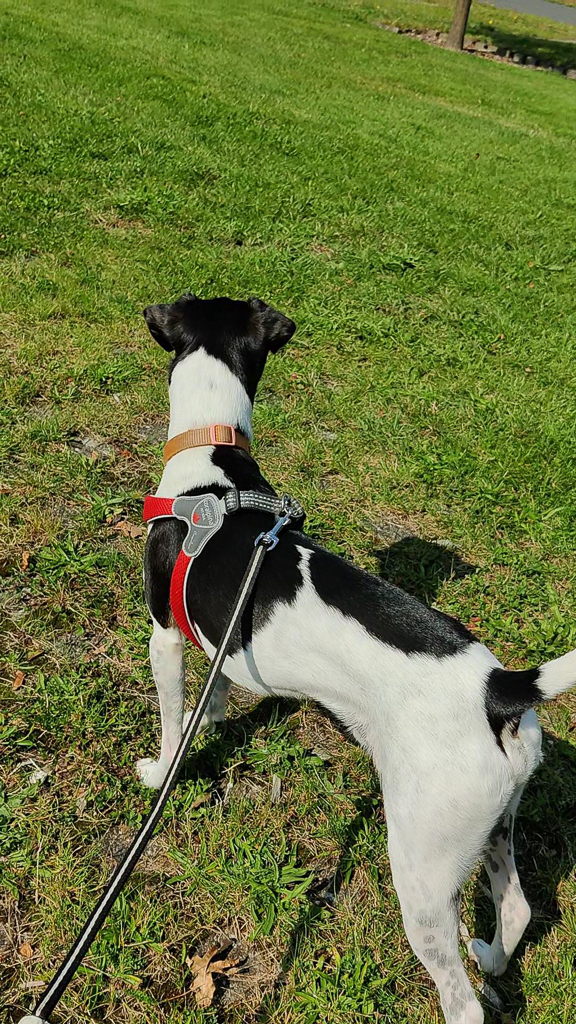Dog: (112, 270, 576, 1024)
